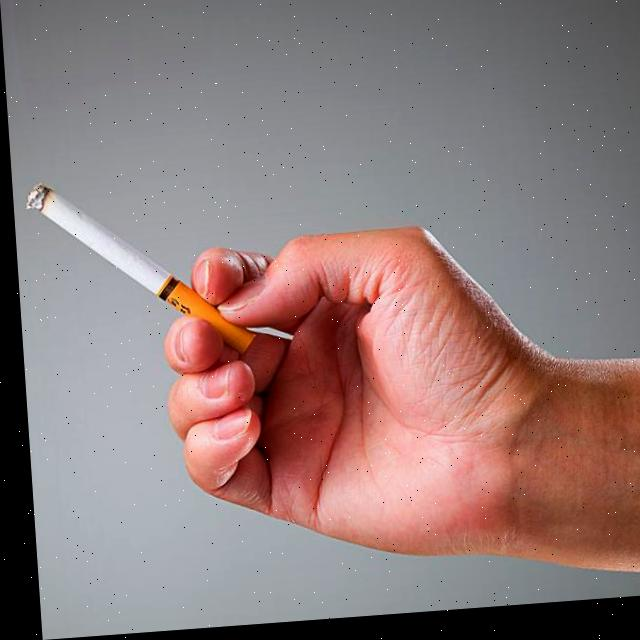cigarette: (19, 171, 250, 371)
